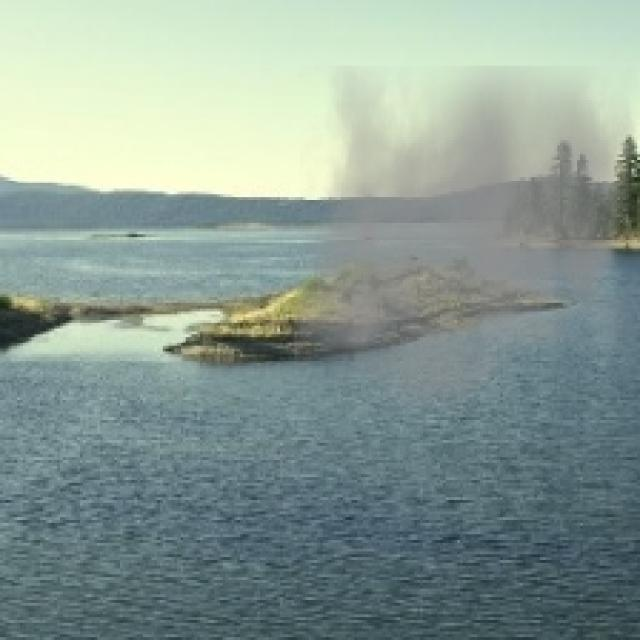Smoke: (294, 66, 637, 426)
